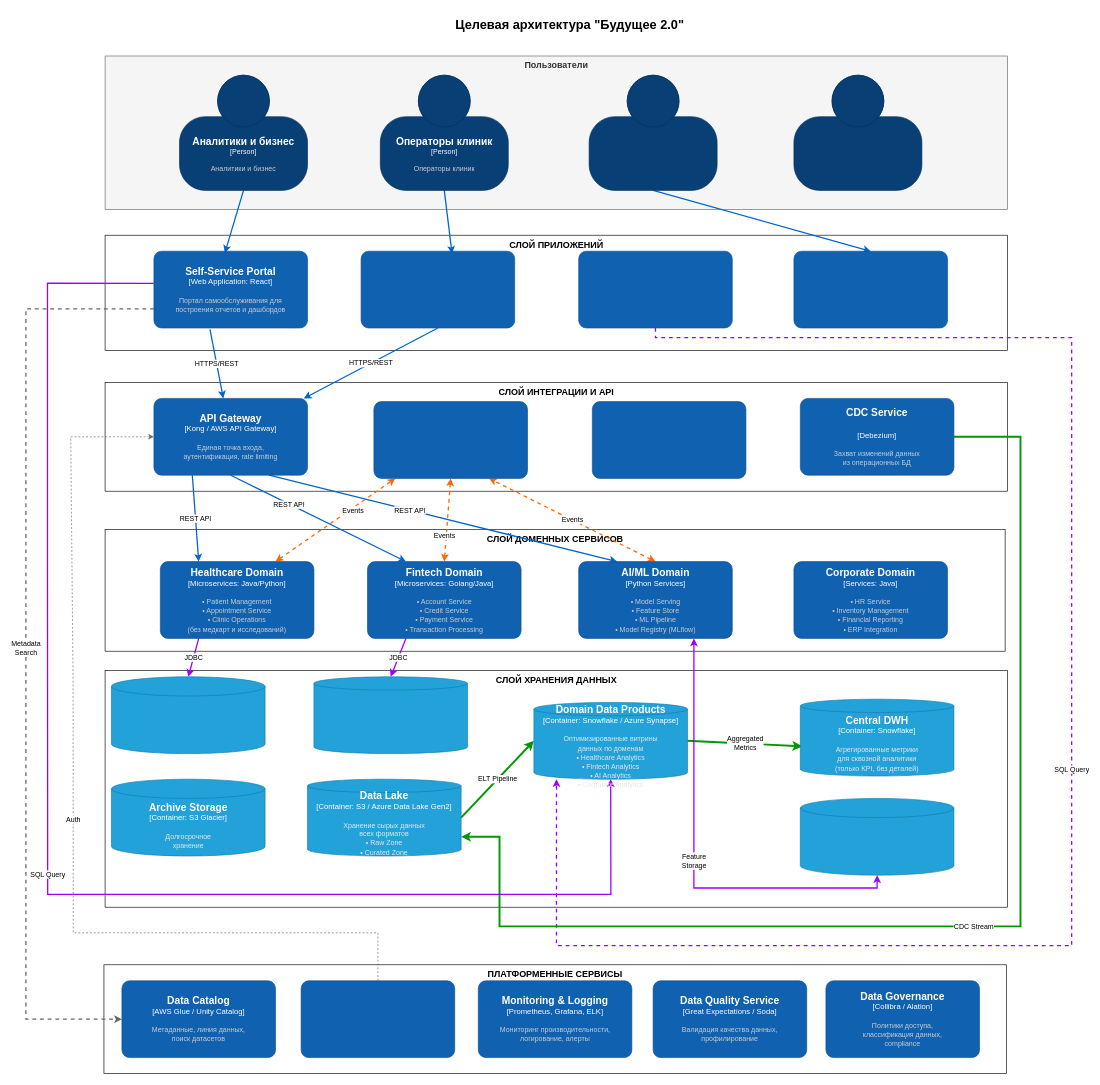
The diagram is 1100 pixels wide and 1085 high, and some of its shapes have lost their labels. The centre of each missing label's shape, as x and y in pixels:
"BI Platform [Power BI] Продвинутая аналитика и визуализация" goes at pixel 655 289.
"ETL Orchestration [Apache Airflow] Оркестрация пакетных загрузок данных" goes at pixel 669 439.
"Event Streaming [Apache Kafka] Асинхронная передача событий между доменами" goes at pixel 450 439.
"Feature Store [Container: Feast / Tecton] Хранение фич для ML моделей" goes at pixel 877 836.
"Fintech DB [Container: PostgreSQL] Операционные данные финтех-сервисов" goes at pixel 390 715.
"Healthcare DB [Container: PostgreSQL] Операционные данные клиник и пациентов" goes at pixel 188 715.
"IAM [Azure AD / AWS IAM] Аутентификация, авторизация, RBAC" goes at pixel 377 1019.
"Mobile Apps [iOS/Android] Мобильные приложения для клиентов и врачей" goes at pixel 870 289.
"Operator Interface [Web Application: React] Интерфейс оператора клиники" goes at pixel 437 289.
"Доктора [Person] Доктора" goes at pixel 652 132.
"Клиенты банка [Person] Клиенты банка" goes at pixel 857 132.
